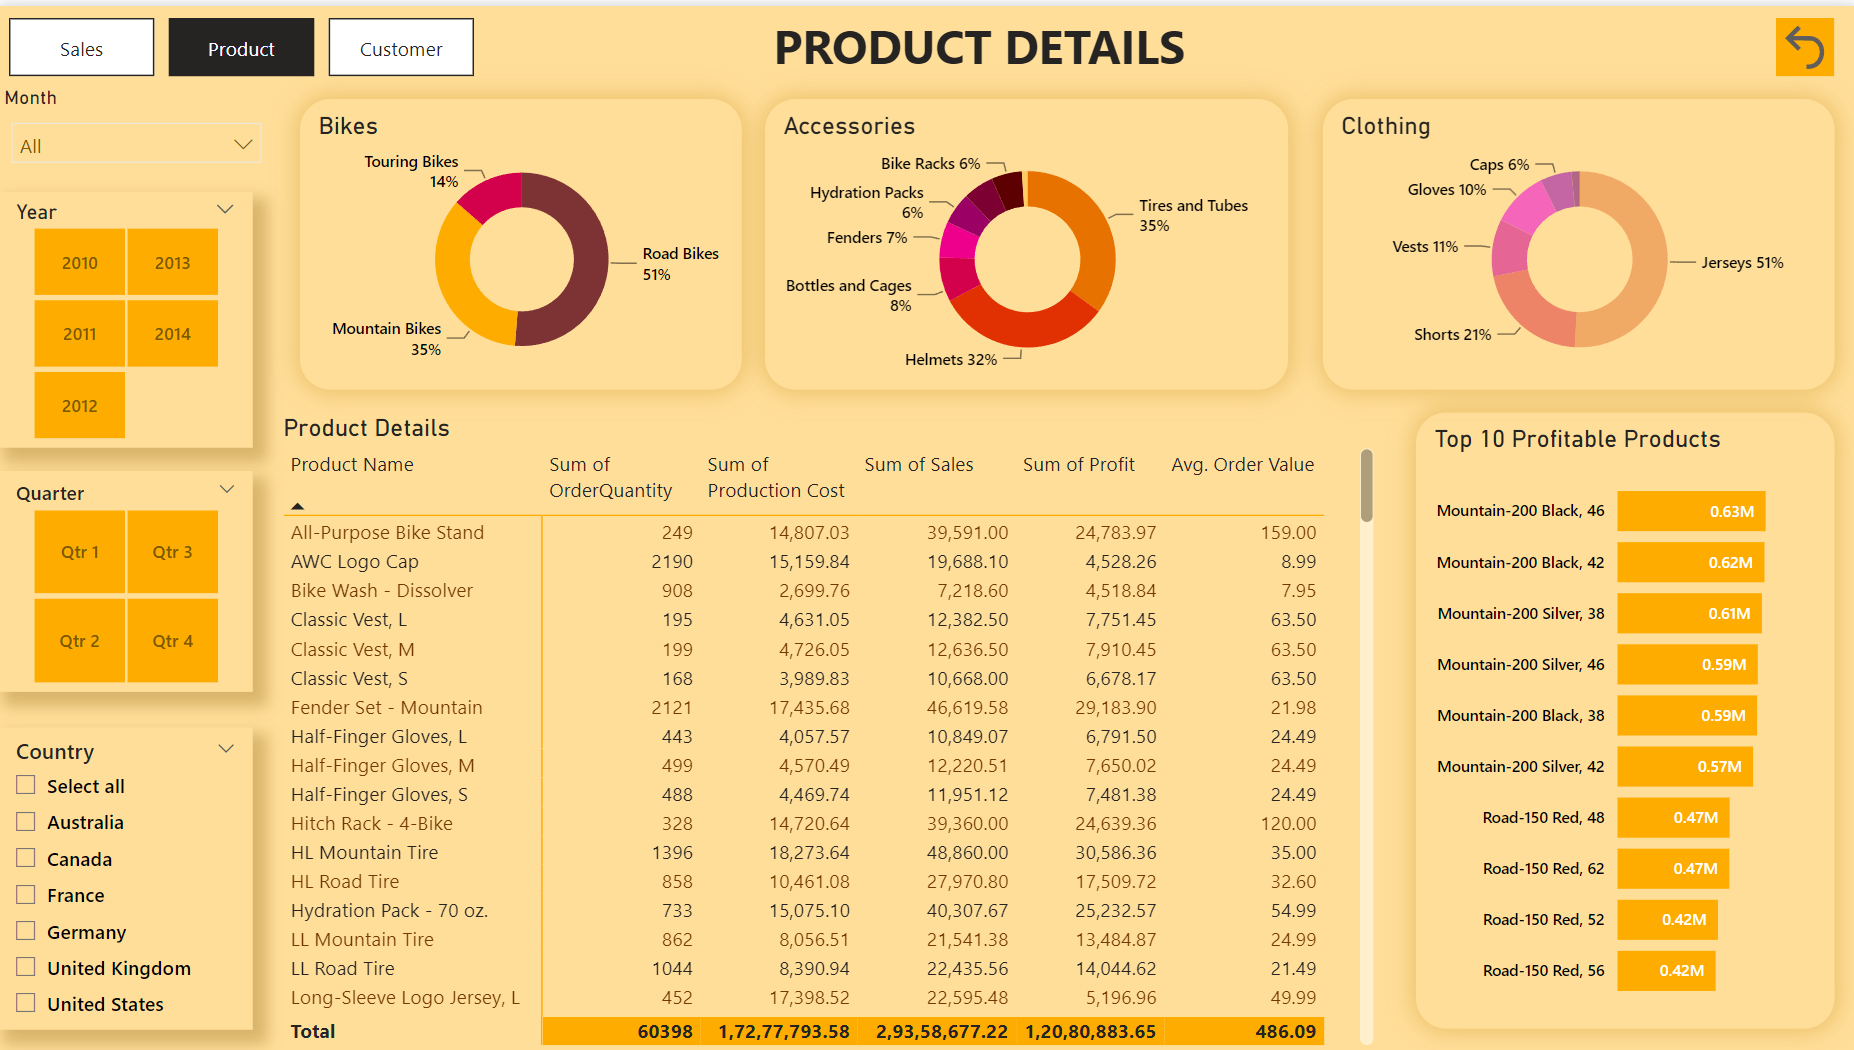

What the dashboard file says about the page in this screenshot:
{"tool":"powerbi","page":{"name":"Product","canvas":[1280,720],"ordinal":1},"visuals":[{"type":"slicer","fields":{"Values":["DimSalesTerritory.SalesTerritoryCountry"]},"box":[1600,304,176,240],"z":0},{"type":"pageNavigator","box":[8,8,320,40],"z":1000},{"type":"slicer","fields":{"Values":["Sales Table.OrderDate.Variation.Date Hierarchy.Year"]},"box":[0,128,176,176],"z":2000},{"type":"slicer","fields":{"Values":["DimSalesTerritory.SalesTerritoryCountry"]},"box":[0,496,176,208],"z":3000},{"type":"slicer","title":"Month","fields":{"Values":["Sales Table.OrderDate.Variation.Date Hierarchy.Month"]},"box":[0,56,192,56],"z":4000},{"type":"slicer","fields":{"Values":["Sales Table.OrderDate.Variation.Date Hierarchy.Quarter"]},"box":[0,320,176,152],"z":5000},{"type":"donutChart","title":"Bikes ","fields":{"Y":["Table.Total Sales"],"Category":["DimProdSubCategory.Product Sub-Category"]},"box":[208,64,304,200],"z":6000},{"type":"clusteredBarChart","title":"Top 10 Profitable Products","fields":{"Category":["DimProduct.Product Name"],"Y":["Sum(Sales Table.Profit)"]},"box":[976,280,288,424],"z":7000},{"type":"pivotTable","title":"Product Details","fields":{"Rows":["DimProduct.Product Name"],"Values":["Sum(Sales Table.OrderQuantity)","Sum(Sales Table.Production Cost)","Sum(Sales Table.Sales)","Sum(Sales Table.Profit)","Table.Avg. Order Value"]},"box":[192,280,760,440],"z":8000},{"type":"donutChart","title":"Accessories","fields":{"Y":["Table.Total Sales"],"Category":["DimProdSubCategory.Product Sub-Category"]},"box":[528,64,360,200],"z":9000},{"type":"donutChart","title":"Clothing","fields":{"Y":["Table.Total Sales"],"Category":["DimProdSubCategory.Product Sub-Category"]},"box":[912,64,352,200],"z":10000},{"type":"textbox","box":[512,0,328,56],"z":11000},{"type":"actionButton","box":[1224,8,40,40],"z":12000}]}

Visuals, with their boxes in screenshot pixels (x1, y1, x2, y2), scaled from the page's 1280x720 canvas onto the 1854x1050 screenshot:
pageNavigator: detection(12, 12, 475, 70)
slicer - Sales Table.OrderDate.Variation.Date Hierarchy.Year: detection(0, 187, 255, 443)
slicer - DimSalesTerritory.SalesTerritoryCountry: detection(0, 723, 255, 1027)
"Month" slicer: detection(0, 82, 278, 163)
slicer - Sales Table.OrderDate.Variation.Date Hierarchy.Quarter: detection(0, 467, 255, 688)
"Bikes " donutChart: detection(301, 93, 742, 385)
"Top 10 Profitable Products" clusteredBarChart: detection(1414, 408, 1831, 1027)
"Product Details" pivotTable: detection(278, 408, 1379, 1049)
"Accessories" donutChart: detection(765, 93, 1286, 385)
"Clothing" donutChart: detection(1321, 93, 1831, 385)
textbox: detection(742, 0, 1217, 82)
actionButton: detection(1773, 12, 1831, 70)
